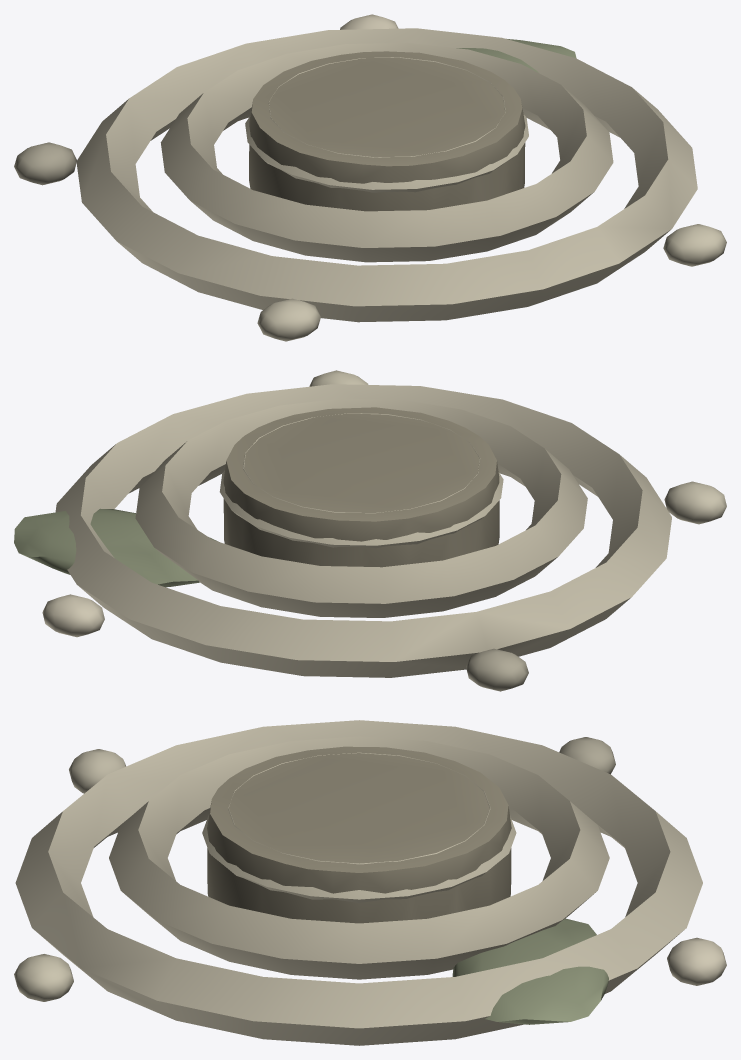
Rendered from mist_rings_a_lod1.glb.
The picture shows the model from 3 angles, top to bottom: view 1: azimuth 30°, elevation 25°; view 2: azimuth 150°, elevation 25°; view 3: azimuth 270°, elevation 25°; orthographic projection. The views are drawn at different scales.
Visible parts, largest first — view 1: Surface.001; view 2: Surface.001; view 3: Surface.001.
Boxes of the visible parts, x1,y1,x2,y2 form: Surface.001: (14,14,726,341); Surface.001: (14,370,726,691); Surface.001: (14,720,726,1045).
Bounding box in the file's own units: 4 × 0.6894 × 4.14.
